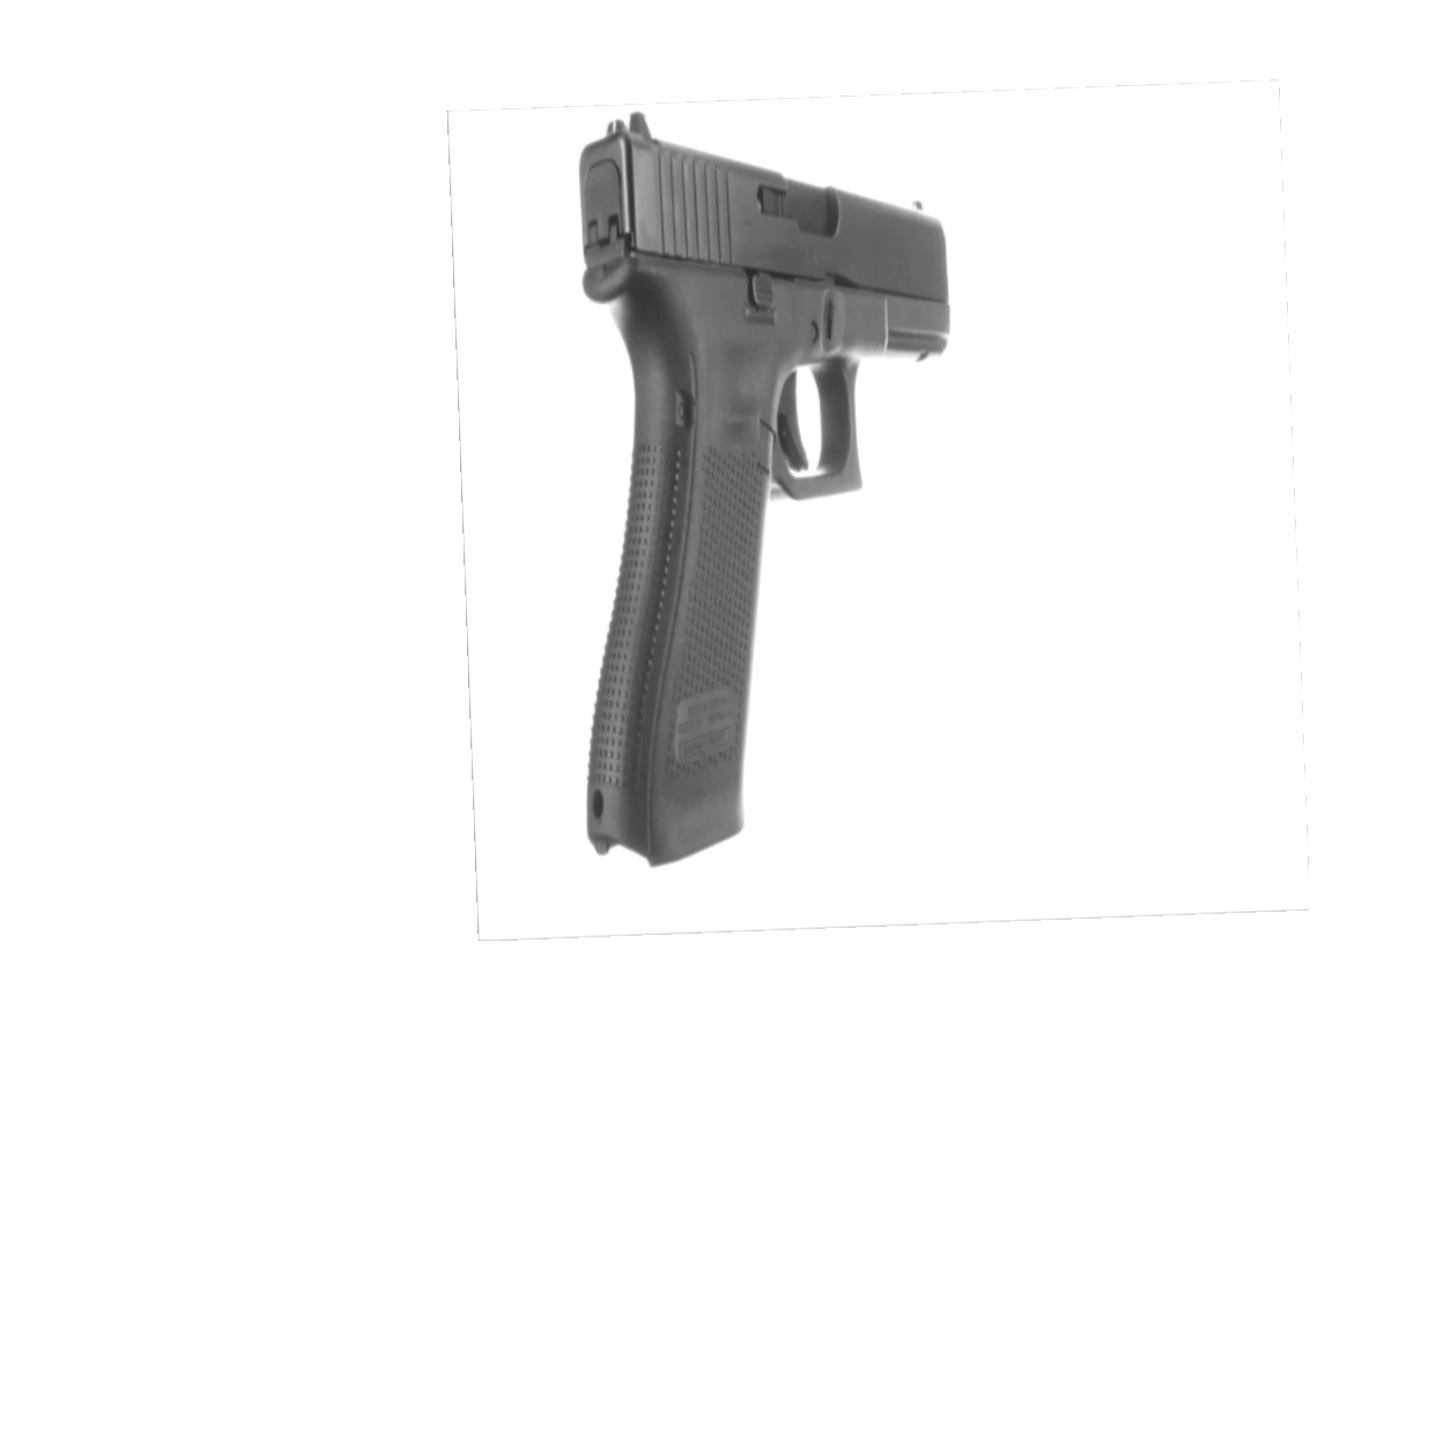gun: (575, 108, 952, 864)
